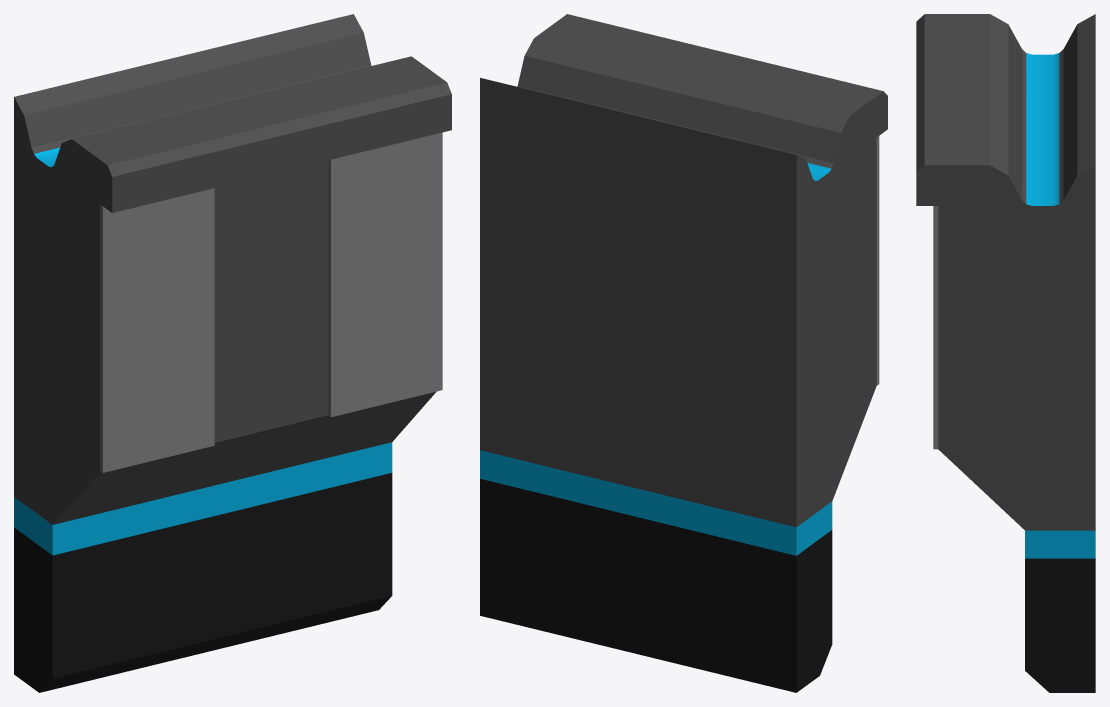
File: Floor_Edge_01x2J.fbx
3 views of the same model, side by side, from view 1: azimuth 30°, elevation 25°; view 2: azimuth 150°, elevation 25°; view 3: azimuth 270°, elevation 25° (orthographic). The views are drawn at different scales.
Parts seen in each view (by area): view 1: Floor_Edge_01x2J; view 2: Floor_Edge_01x2J; view 3: Floor_Edge_01x2J.
Boxes of the visible parts, <box> form: Floor_Edge_01x2J: <box>14,14,451,692</box>; Floor_Edge_01x2J: <box>480,14,887,692</box>; Floor_Edge_01x2J: <box>916,14,1095,692</box>.
Bounding box in the file's own units: 400 × 650 × 200.
